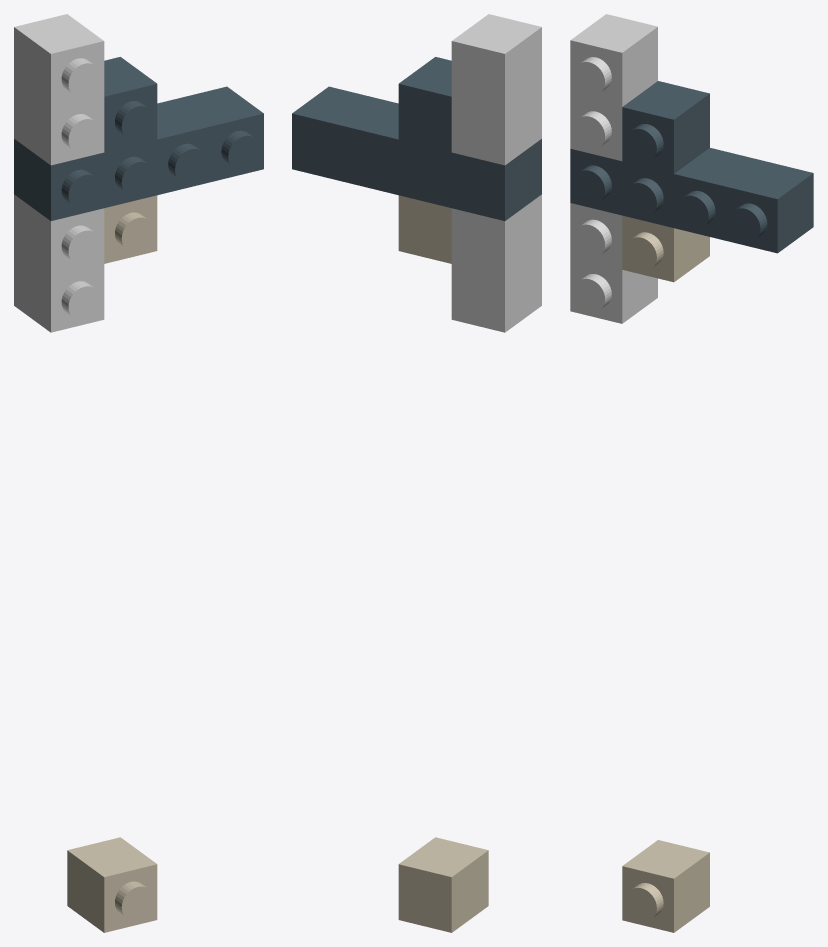
File: current.glb
3 renders of one model, left to right at view 1: azimuth 30°, elevation 25°; view 2: azimuth 150°, elevation 25°; view 3: azimuth 330°, elevation 25°, orthographic. The views are drawn at different scales.
Visible parts, largest first — view 1: world; view 2: world; view 3: world.
Boxes of the visible parts, box(x1,y1,x2,y2) form: world: box(14, 14, 263, 932); world: box(292, 14, 541, 932); world: box(570, 14, 813, 932).
Size of the model in its own units: 32 by 128 by 11.4.
